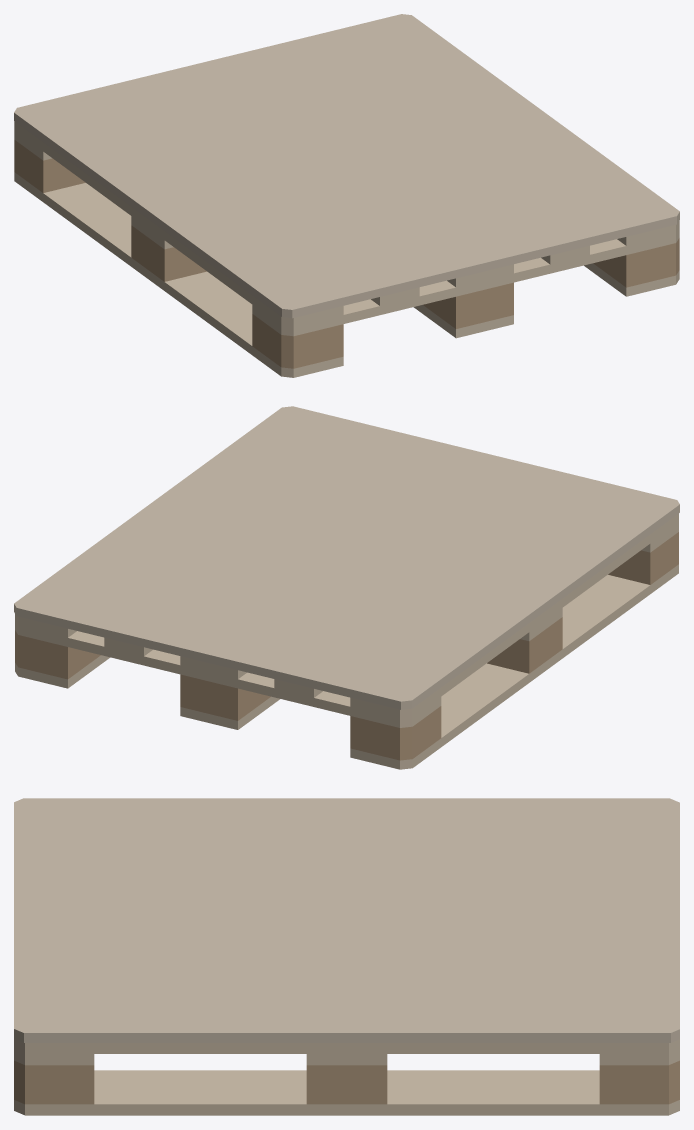
The model's file is wooden-pallet.glb.
3 renders of one model, top to bottom at view 1: azimuth 30°, elevation 25°; view 2: azimuth 150°, elevation 25°; view 3: azimuth 270°, elevation 25°, orthographic. The views are drawn at different scales.
Parts seen in each view (by area): view 1: Mesh_Mesh_head_geo.001_lambert2SG.001; view 2: Mesh_Mesh_head_geo.001_lambert2SG.001; view 3: Mesh_Mesh_head_geo.001_lambert2SG.001.
Boxes of the visible parts, x1,y1,x2,y2 form: Mesh_Mesh_head_geo.001_lambert2SG.001: (14,14,679,377); Mesh_Mesh_head_geo.001_lambert2SG.001: (14,406,679,769); Mesh_Mesh_head_geo.001_lambert2SG.001: (14,798,679,1115).
Bounding box in the file's own units: 1 × 0.164 × 1.2.
